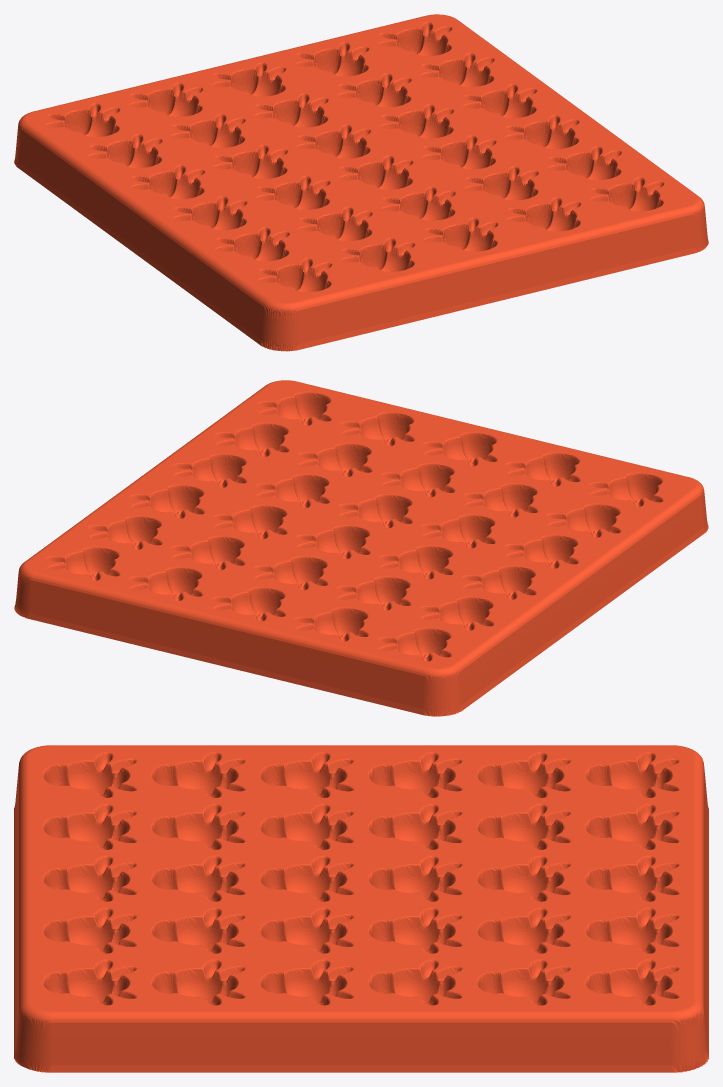
The model's file is mold.glb.
3 views of the same model, one above another, from view 1: azimuth 30°, elevation 25°; view 2: azimuth 150°, elevation 25°; view 3: azimuth 270°, elevation 25° (orthographic). The views are drawn at different scales.
Visible parts, largest first — view 1: geometry_0; view 2: geometry_0; view 3: geometry_0.
Boxes of the visible parts, box(x1,y1,x2,y2) form: geometry_0: box(14, 14, 708, 351); geometry_0: box(14, 380, 708, 716); geometry_0: box(14, 745, 708, 1072).
Size of the model in its own units: 0.1563 by 0.0145 by 0.1652.
